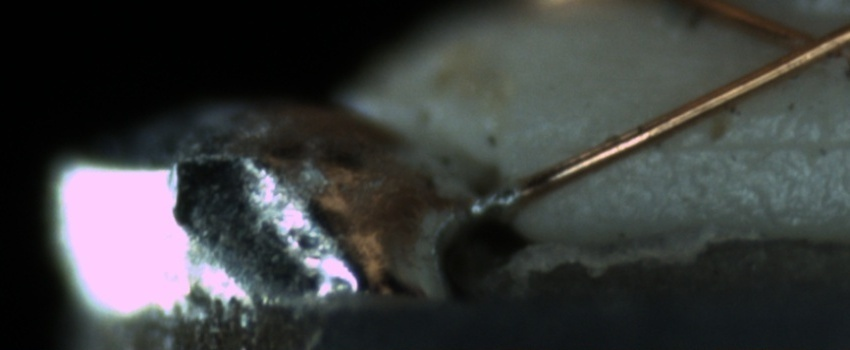CL: (757, 11, 848, 76)
DL: (633, 109, 849, 181)
TS: (470, 182, 521, 216)
